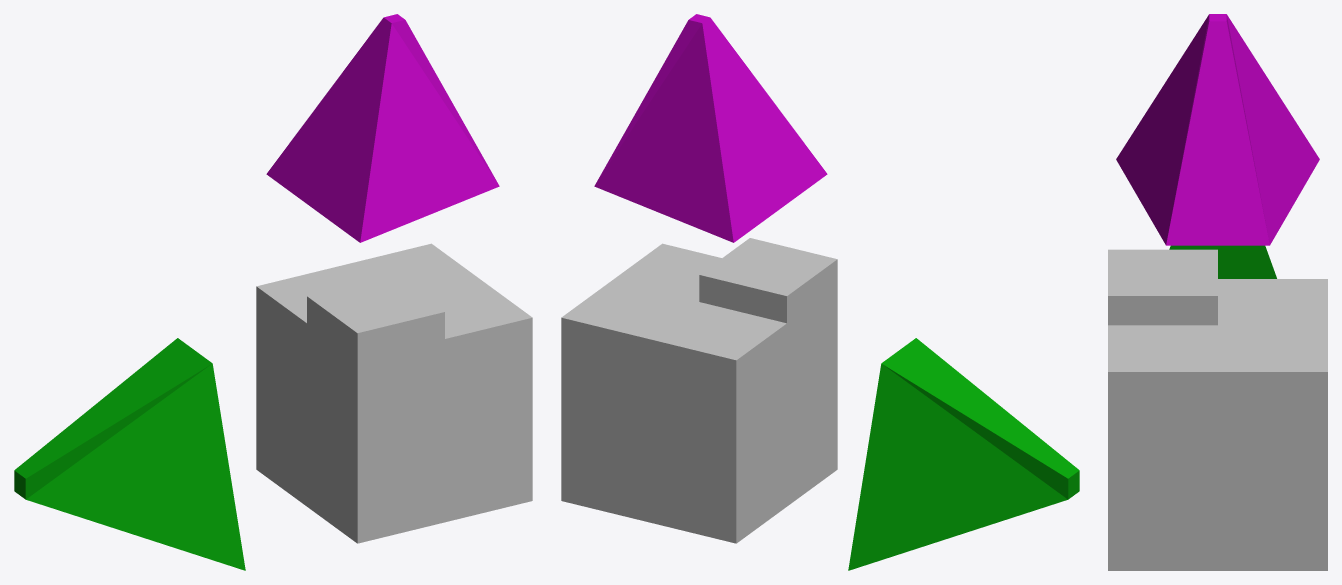
The model's file is DangoCube.obj.
3 views of the same model, side by side, from view 1: azimuth 30°, elevation 25°; view 2: azimuth 150°, elevation 25°; view 3: azimuth 270°, elevation 25° (orthographic). The views are drawn at different scales.
Visible parts, largest first — view 1: Cube, Cube.002, Cube.001; view 2: Cube, Cube.002, Cube.001; view 3: Cube, Cube.001, Cube.002.
Part boxes in pixels (<box>): Cube: <box>256,243,532,543</box>; Cube.002: <box>14,338,245,570</box>; Cube.001: <box>266,14,499,242</box>; Cube: <box>561,238,837,543</box>; Cube.002: <box>848,338,1079,570</box>; Cube.001: <box>594,14,827,242</box>; Cube: <box>1108,249,1327,570</box>; Cube.001: <box>1116,14,1319,245</box>; Cube.002: <box>1169,245,1276,278</box>.
Bounding box in the file's own units: 5.28 × 5.09 × 2.
